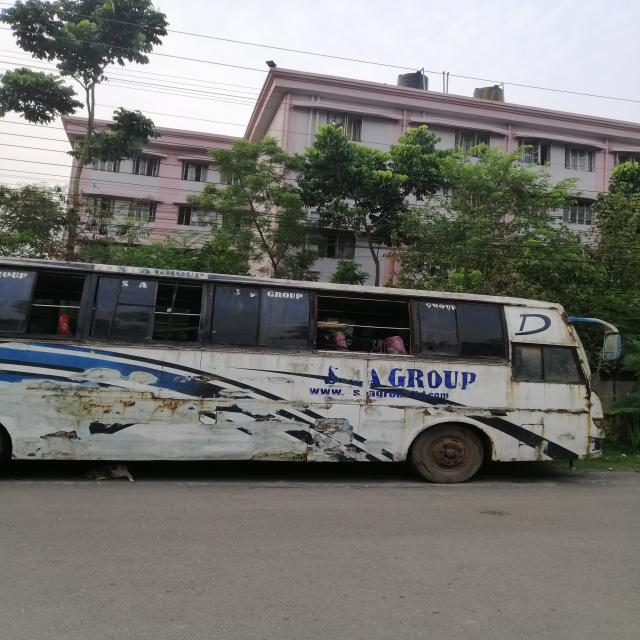Bus: (1, 239, 640, 517)
